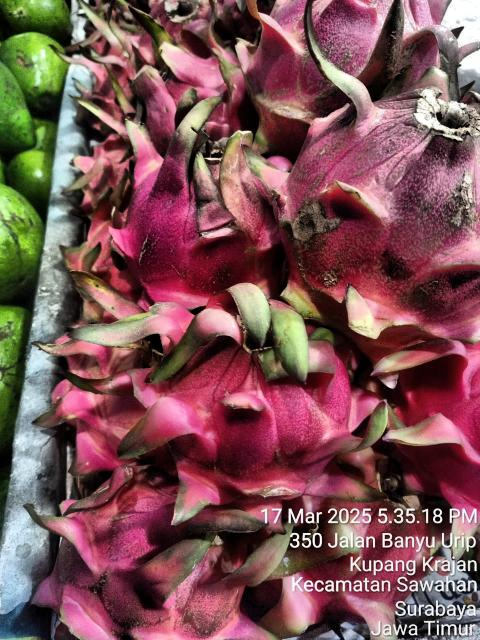buah-naga-matang: (95, 270, 368, 514), (270, 32, 480, 344), (112, 104, 302, 310), (29, 475, 254, 640), (237, 0, 432, 134), (376, 328, 480, 540), (125, 24, 240, 136)
